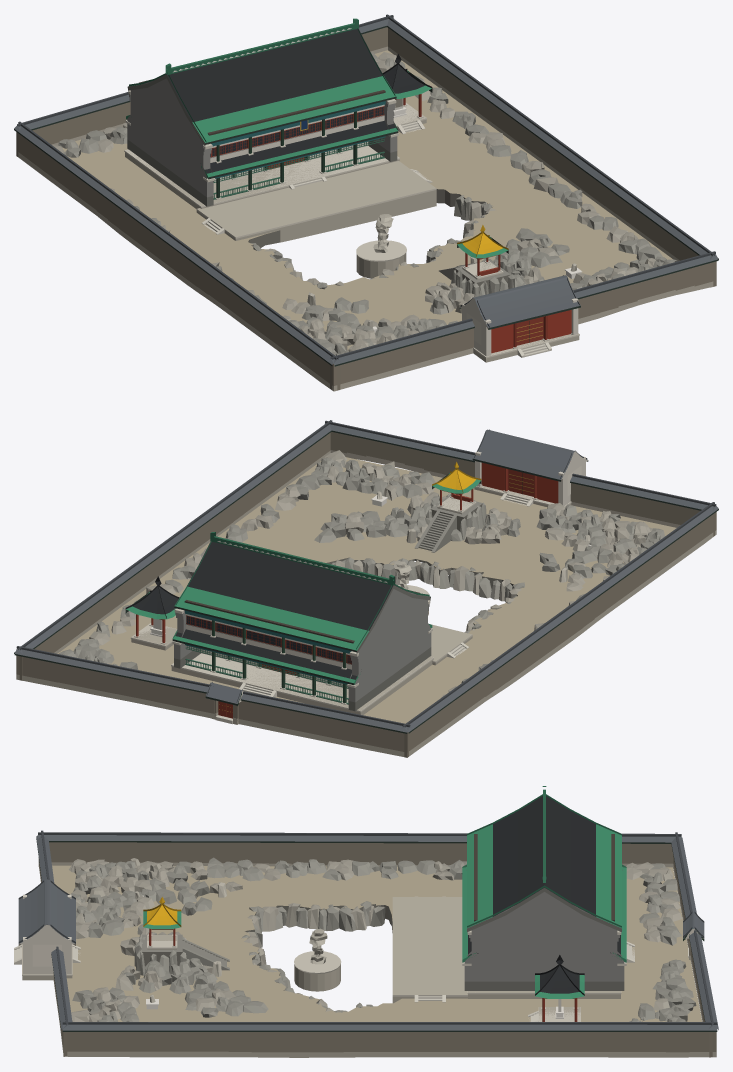
3 renders of one model, top to bottom at view 1: azimuth 30°, elevation 25°; view 2: azimuth 150°, elevation 25°; view 3: azimuth 270°, elevation 25°, orthographic. The views are drawn at different scales.
Parts seen in each view (by area): view 1: YM46 文源阁 Wenyuan Ge; view 2: YM46 文源阁 Wenyuan Ge; view 3: YM46 文源阁 Wenyuan Ge.
Boxes of the visible parts, x1,y1,x2,y2 form: YM46 文源阁 Wenyuan Ge: (14, 14, 718, 391); YM46 文源阁 Wenyuan Ge: (14, 420, 718, 757); YM46 文源阁 Wenyuan Ge: (14, 786, 718, 1057).
Bounding box in the file's own units: 49.81 × 17.4 × 76.11.
